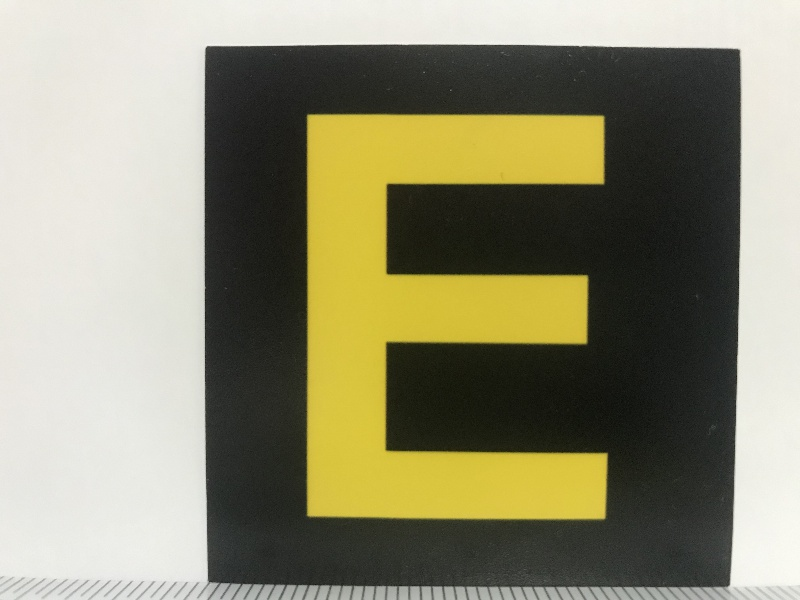E-15: (212, 52, 726, 582)
